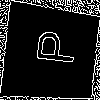P: (25, 28, 77, 66)
